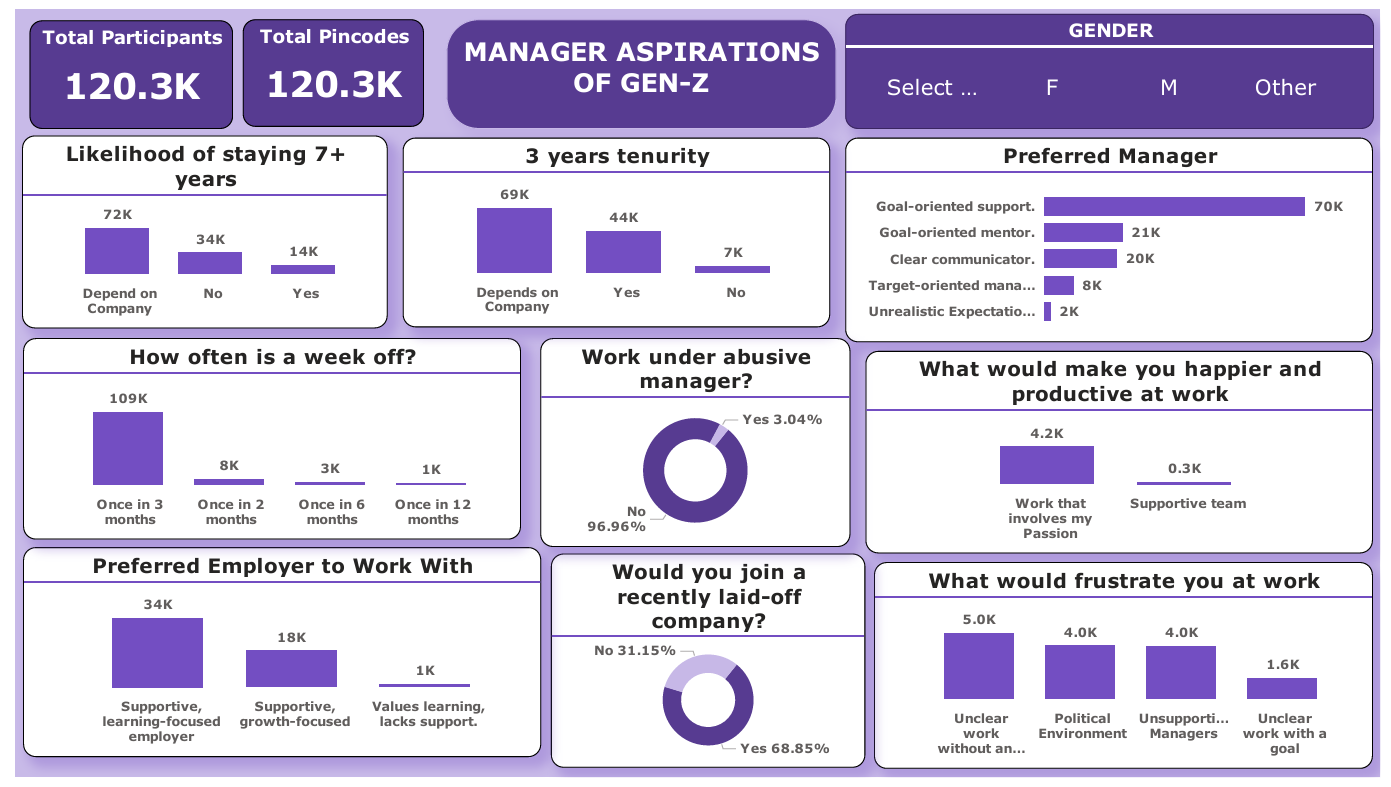

What the dashboard file says about the page in this screenshot:
{"tool":"powerbi","page":{"name":"Manager","canvas":[1280,720],"ordinal":2},"visuals":[{"type":"card","title":"Total Pincodes","fields":{"Values":["Table1_3.Pin Code"]},"box":[212.6,8.9,170.8,101.2],"z":0},{"type":"textbox","box":[403.5,8.6,366.2,103.4],"z":1000},{"type":"slicer","title":"GENDER","fields":{"Values":["Table1_3. Gender"]},"box":[778.3,4.3,495.4,107.7],"z":2000},{"type":"card","title":"Total Participants","fields":{"Values":["Table1_3.Email address"]},"box":[12.9,10.1,191,102],"z":3000},{"type":"columnChart","title":"Likelihood of staying 7+ years","fields":{"Category":["Table1_3.Likelihood of staying 7+ years?"],"Y":["Table1_3.Likelihood of staying 7+ years?"]},"box":[6.3,117.7,342.9,180.9],"z":4000},{"type":"barChart","title":"Preferred Manager ","fields":{"Category":["Table1_3.Preferred Manager "],"Y":["Table1_3.Preferred Manager "]},"box":[777.8,119.6,494.7,192.4],"z":5000},{"type":"columnChart","title":"What would make you happier and productive at work","fields":{"Category":["Table1_3.What would make you happier and productive at work"],"Y":["Table1_3.What would make you happier and productive at work"]},"box":[797.1,320.2,475.5,189.6],"z":7000},{"type":"columnChart","title":"What would frustrate you at work ","fields":{"Category":["Table1_3.What would frustrate you at work ?"],"Y":["Table1_3.What would frustrate you at work ?"]},"box":[805.3,518.1,467.3,193.8],"z":8000},{"type":"donutChart","title":"Would you join a recently laid-off company?","fields":{"Category":["Table1_3.Would you join a recently laid-off company?"],"Y":["Table1_3.Would you join a recently laid-off company?"]},"box":[501.6,509.9,295.5,200.6],"z":9000},{"type":"donutChart","title":" Work under abusive manager?","fields":{"Category":["Table1_3.Work under abusive manager?"],"Y":["Table1_3.Work under abusive manager?"]},"box":[492,307.8,291.3,196.5],"z":9001},{"type":"columnChart","title":"Preferred Employer to Work With","fields":{"Category":["Table1_3.Preferred Employer to Work With"],"Y":["Table1_3.Preferred Employer to Work With"]},"box":[6.9,504.4,486.5,196.5],"z":9002},{"type":"columnChart","title":"How often is a week off?","fields":{"Category":["Table1_3.How often is a week off?"],"Y":["Table1_3.How often is a week off?"]},"box":[6.9,307.8,467.3,189.7],"z":9003},{"type":"columnChart","title":"3 years tenurity","fields":{"Category":["Table1_3.3 years tenurity"],"Y":["Table1_3.3 years tenurity"]},"box":[362.8,119.6,401.3,178.6],"z":9004}]}

Visuals, with their boxes in screenshot pixels (x1, y1, x2, y2), scaled from the page's 1280x720 canvas onto the 1391x787 screenshot:
"Total Pincodes" card: box(231, 10, 417, 120)
textbox: box(438, 9, 836, 122)
"GENDER" slicer: box(846, 5, 1384, 122)
"Total Participants" card: box(14, 11, 222, 123)
"Likelihood of staying 7+ years" columnChart: box(7, 129, 379, 326)
"Preferred Manager " barChart: box(845, 131, 1383, 341)
"What would make you happier and productive at work" columnChart: box(866, 350, 1383, 557)
"What would frustrate you at work " columnChart: box(875, 566, 1383, 778)
"Would you join a recently laid-off company?" donutChart: box(545, 557, 866, 777)
" Work under abusive manager?" donutChart: box(535, 336, 851, 551)
"Preferred Employer to Work With" columnChart: box(7, 551, 536, 766)
"How often is a week off?" columnChart: box(7, 336, 515, 544)
"3 years tenurity" columnChart: box(394, 131, 830, 326)
